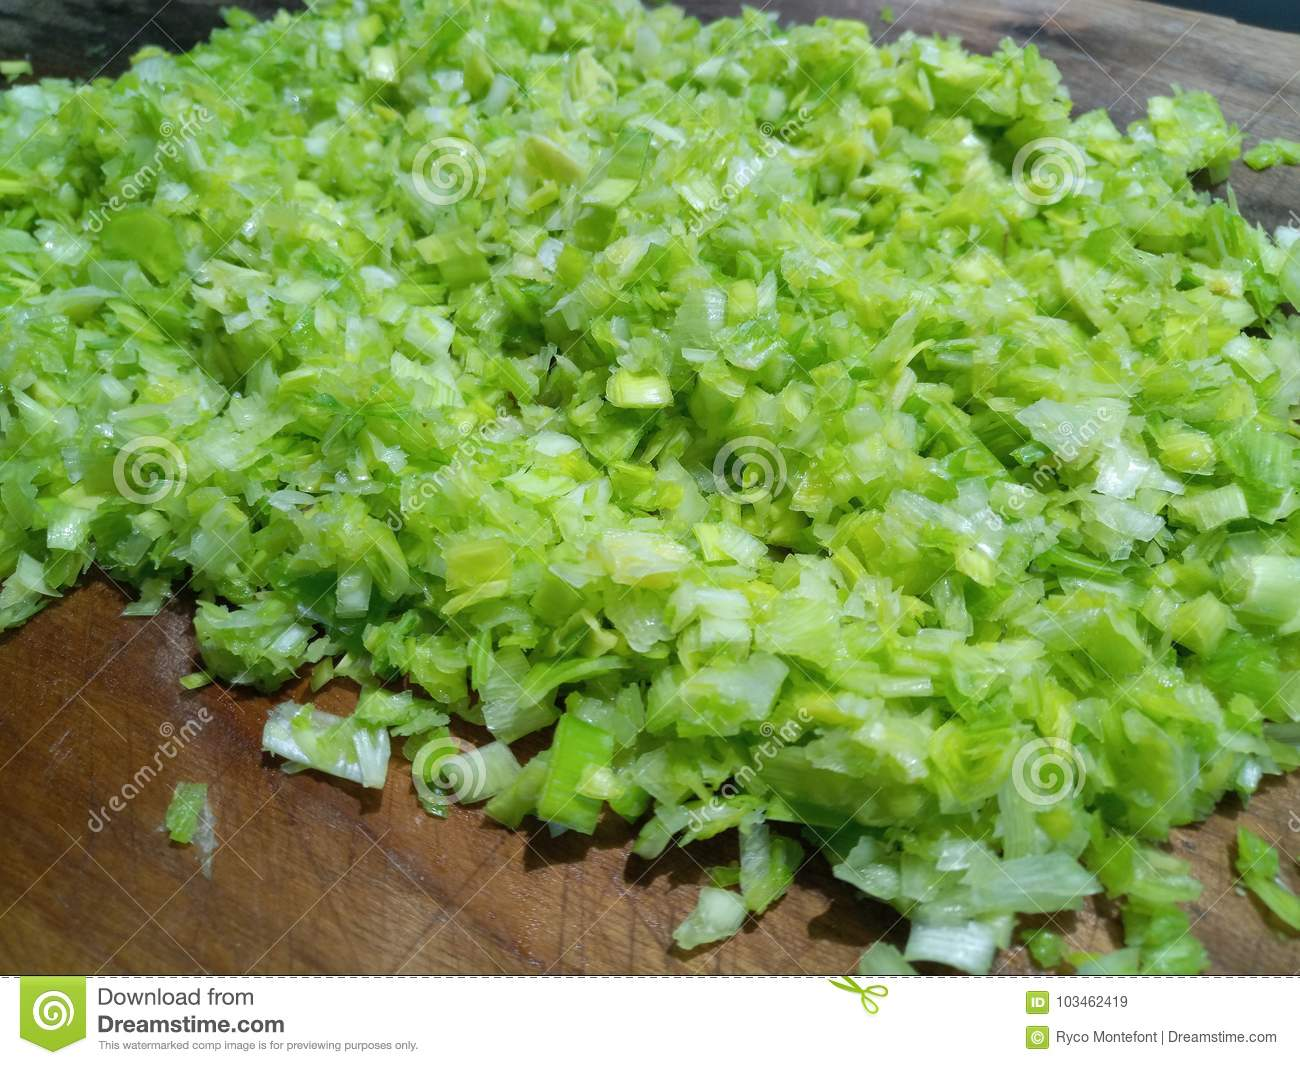chopped lettuce: (50, 29, 1261, 873)
